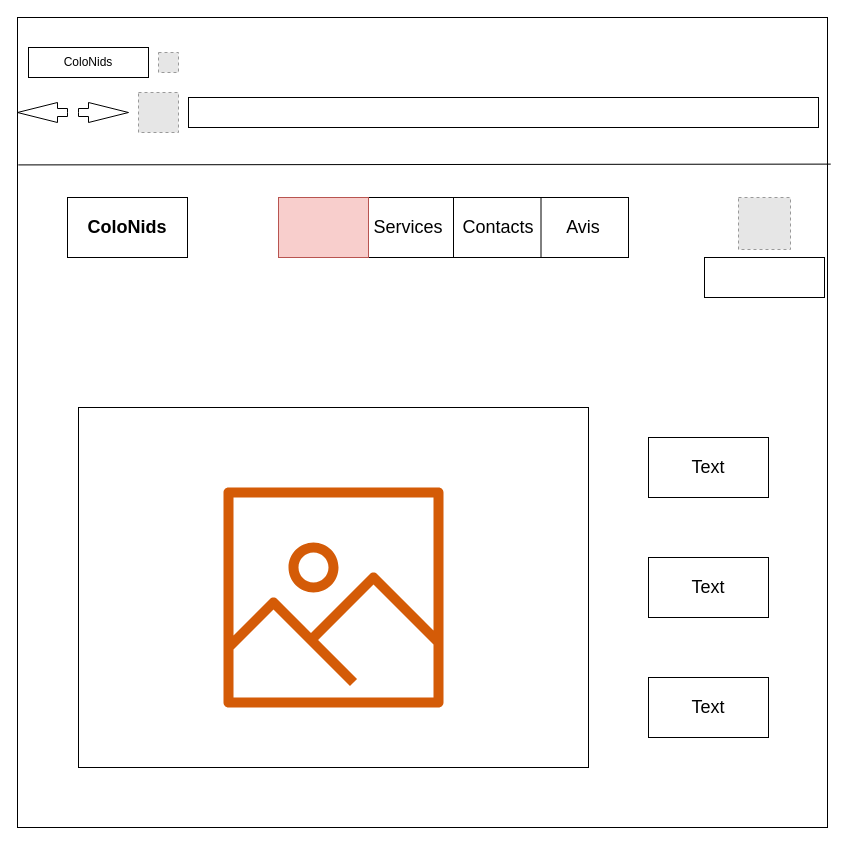
This 850x845 diagram has some shape labels left out. Grey dashed boxes stand in for pictures. The centre of each missing label's shape, as x and y in pixels:
"https://www.colonids.net/" belongs at pixel 503 112.
"Page d'accueil" belongs at pixel 323 227.
"Se connecter / Sinscrire" belongs at pixel 764 277.
